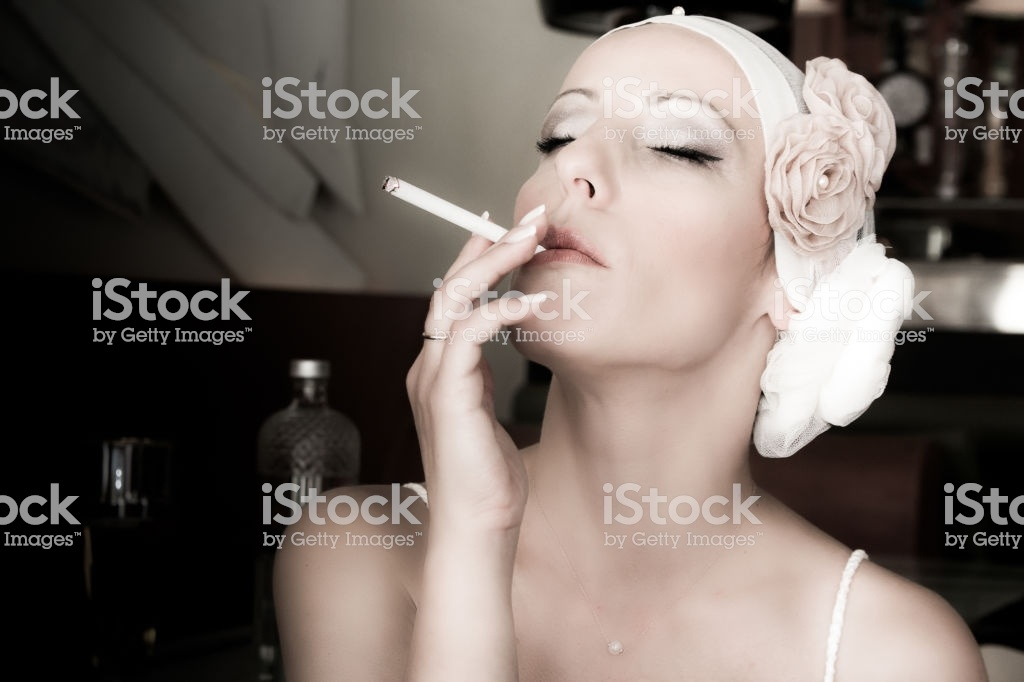sigaretta: (385, 172, 551, 265)
